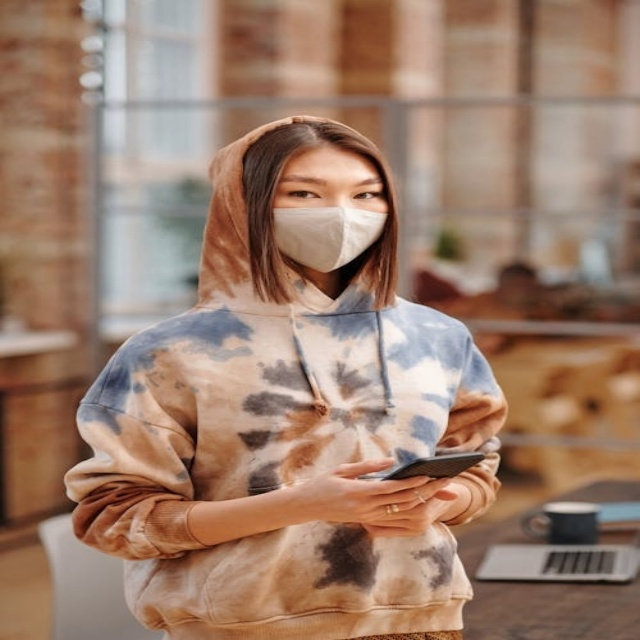Mascara: (269, 203, 386, 272)
Sin_gafas: (283, 175, 379, 204)
Sin_guantes: (289, 458, 457, 532)
